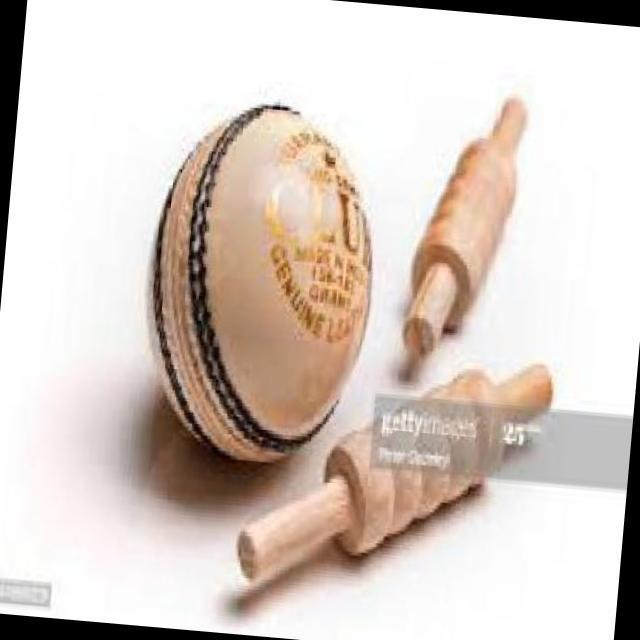-: (131, 55, 364, 454)
